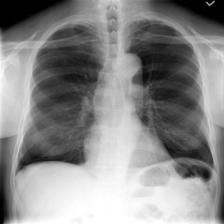normal: (12, 14, 216, 183)
